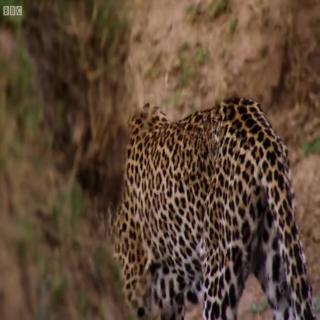Leopard: (127, 101, 317, 320)
